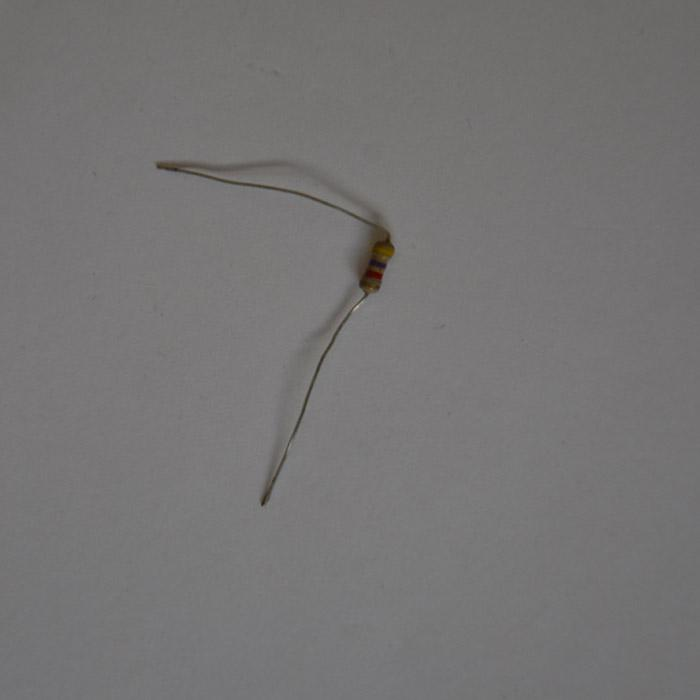resistor: (360, 237, 394, 292)
